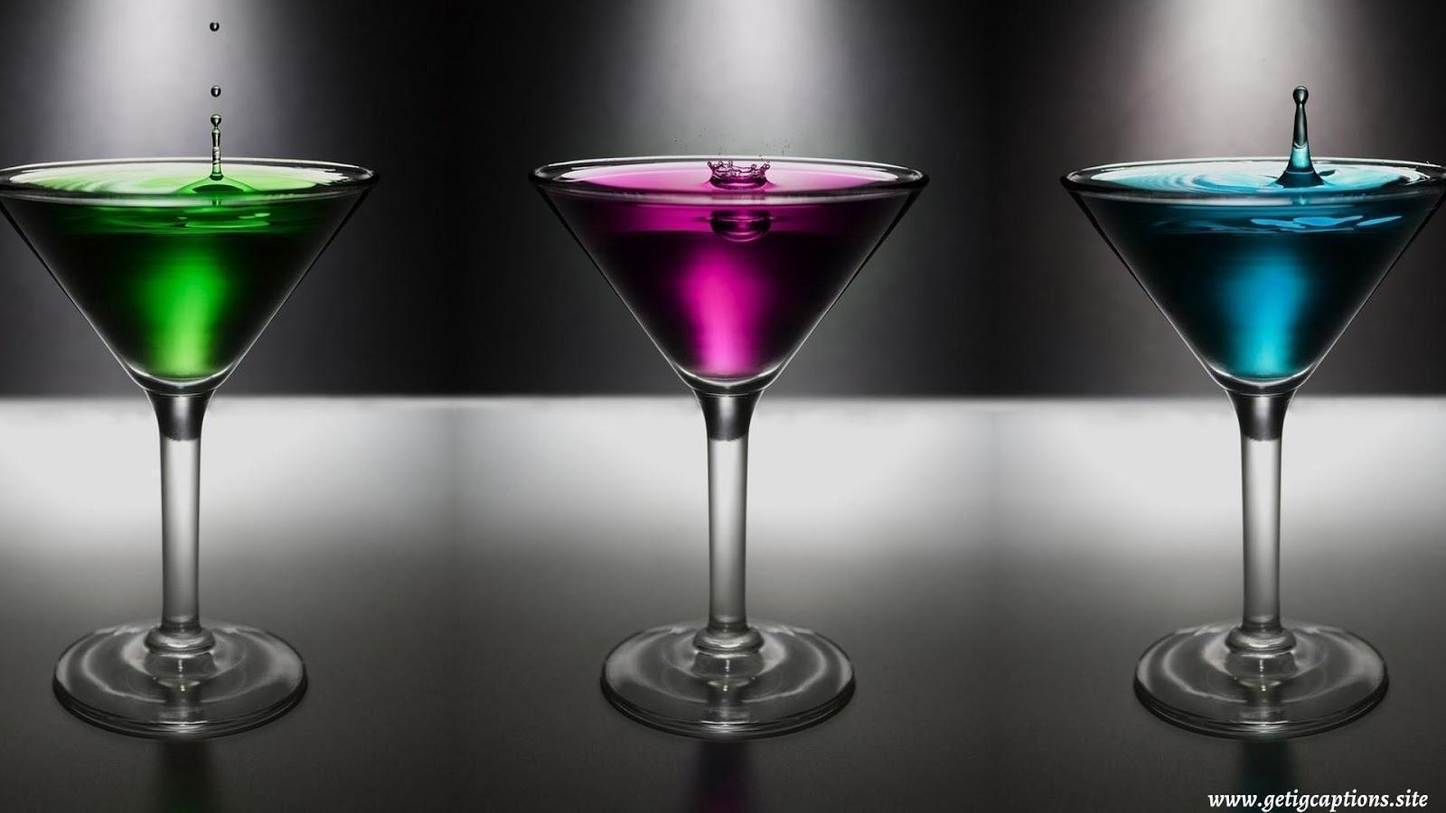glass-wine: (529, 154, 928, 738), (1060, 153, 1440, 737), (0, 153, 380, 737)
